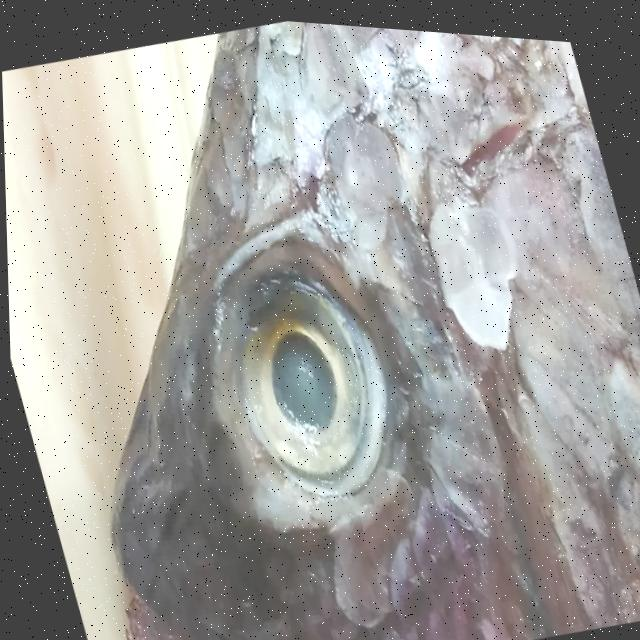Non-Fresh: (314, 18, 640, 623), (175, 217, 442, 539)
